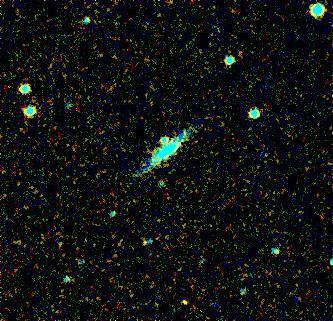star: (172, 286, 202, 316)
